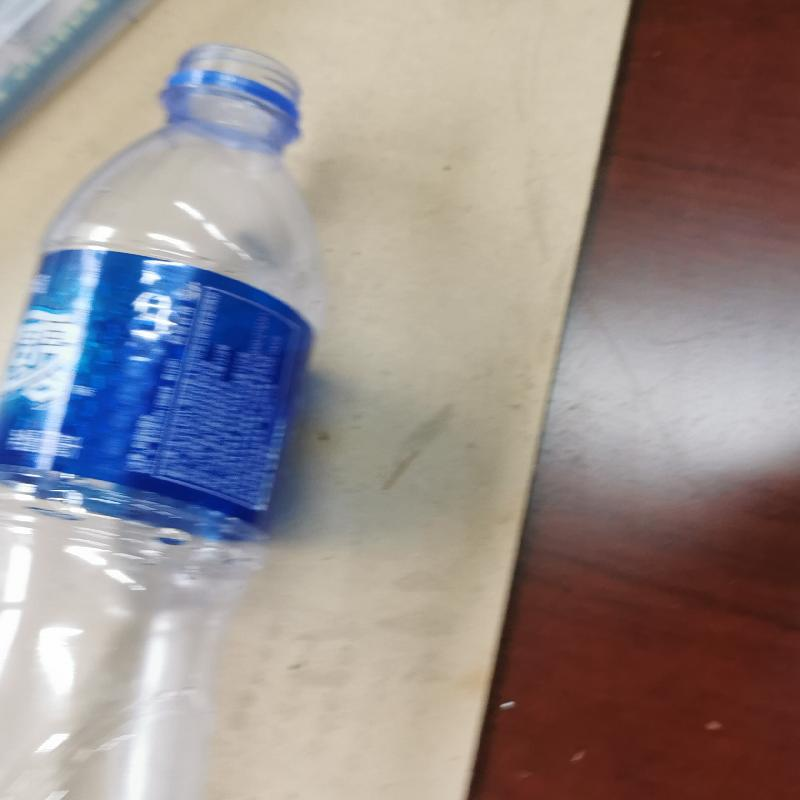bottles: (0, 40, 336, 800)
